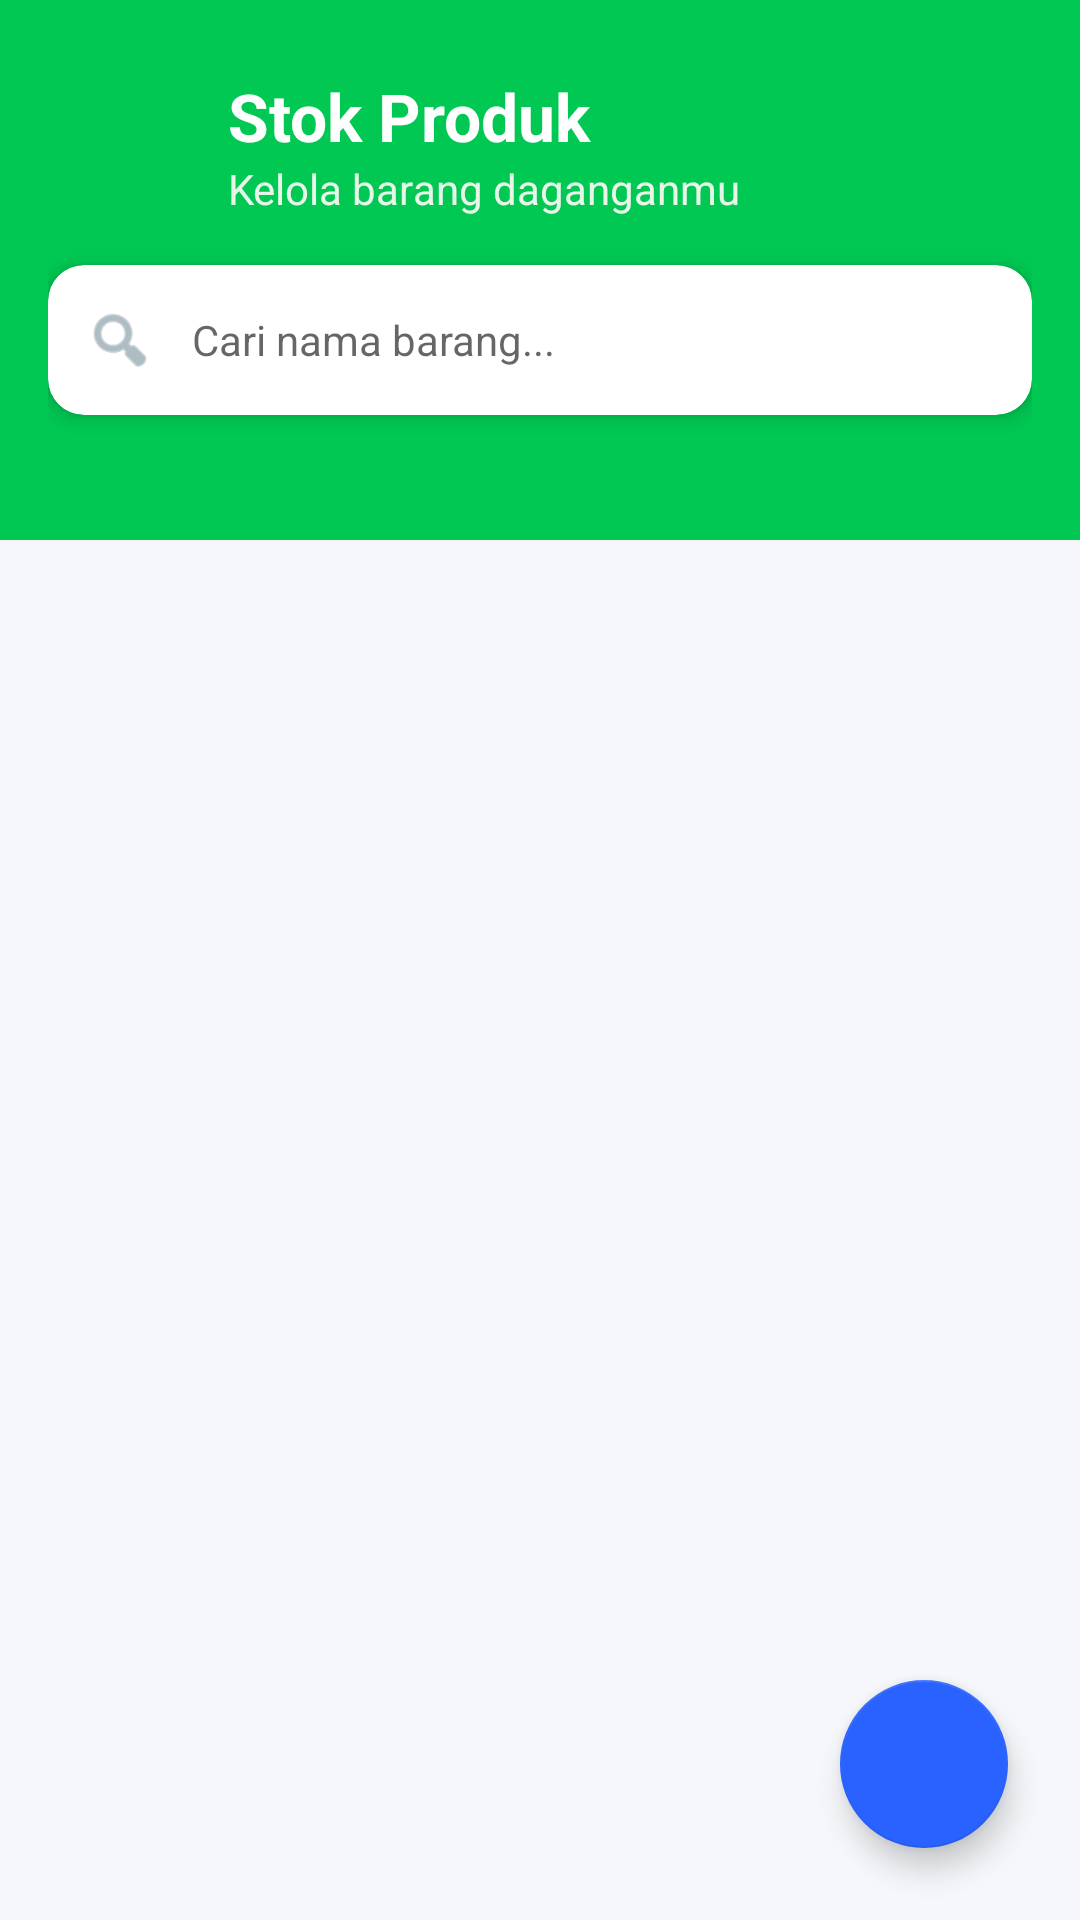

Screen size 1080px x 1920px. Icon name, then its box in pixels as Rect(x1, y1, x2, y2):
search: Rect(94, 314, 146, 367)
